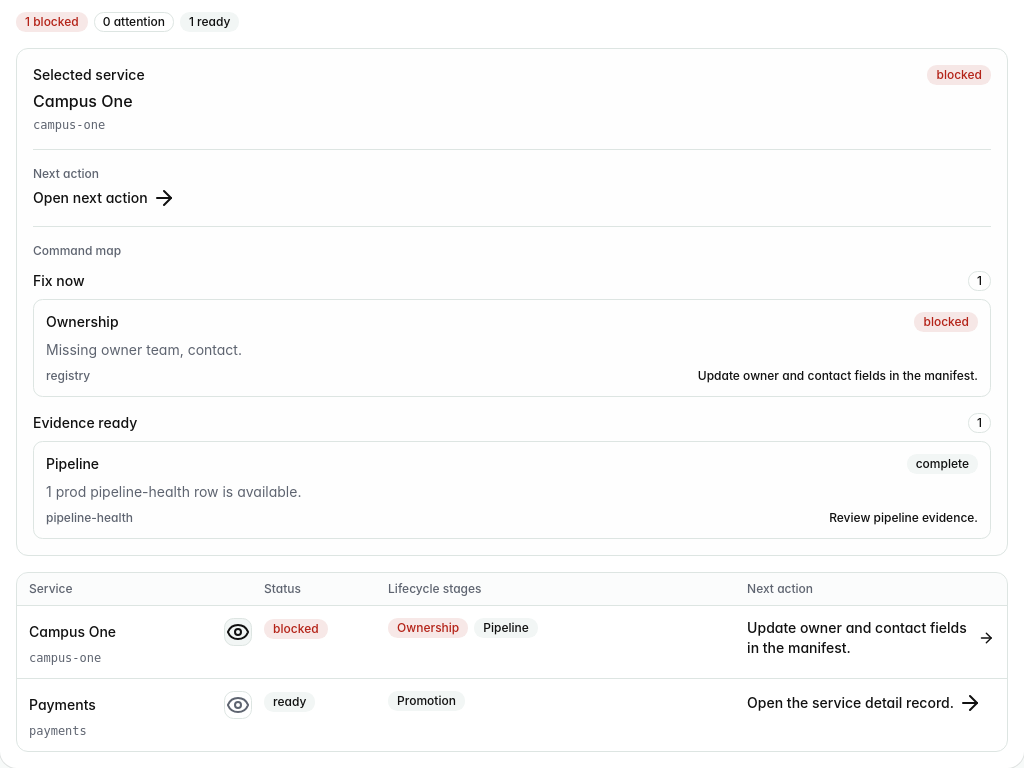
PlatformLifecyclePanel › shows source evidence for the selected service and updates the detail rail
The width and height of the screenshot is (1024, 768).
(page scrolled)
Expected: the text "Selected service" is shown, [33,65,145,85]
Expected: the link "Campus One" below "Status" is shown, [29,623,116,640]
Click the button named "Inspect lifecycle for Payments": x=238, y=705 [224,691,252,719]
(page scrolled)
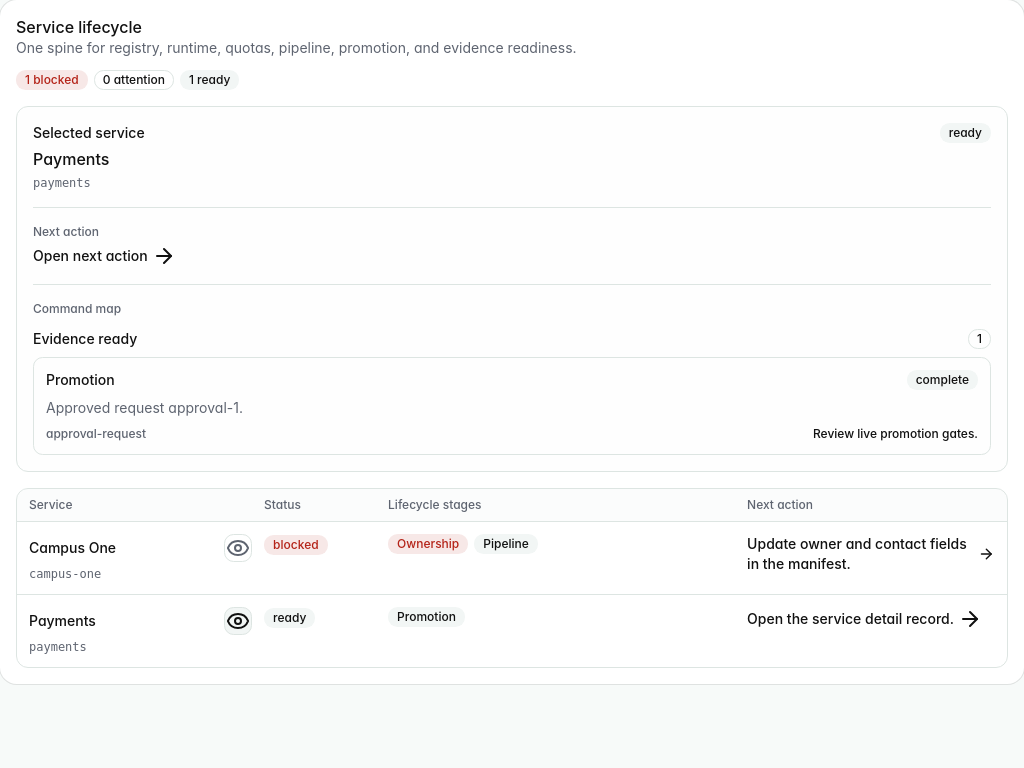
Expected: the button named "Inspect lifecycle for Payments" is shown, [224,607,252,635]
Expected: the text "approval-request" is shown, [46,426,146,442]
Expected: the text "Approved request approval-1." is shown, [46,399,243,416]
